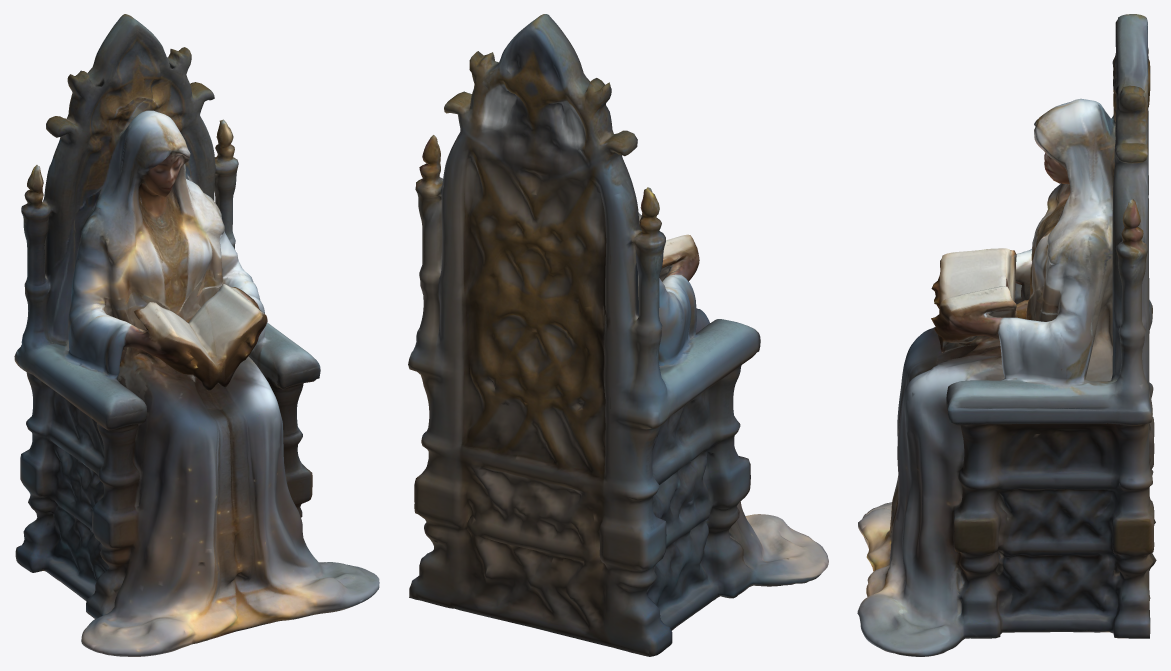
File: sacer.glb
3 views of the same model, side by side, from view 1: azimuth 30°, elevation 25°; view 2: azimuth 150°, elevation 25°; view 3: azimuth 270°, elevation 25° (orthographic). The views are drawn at different scales.
Size of the model in its own units: 1.15 by 2 by 0.9522.
Materials: 1 (1 with a texture image).
